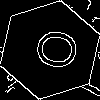O: (25, 25, 80, 73)
